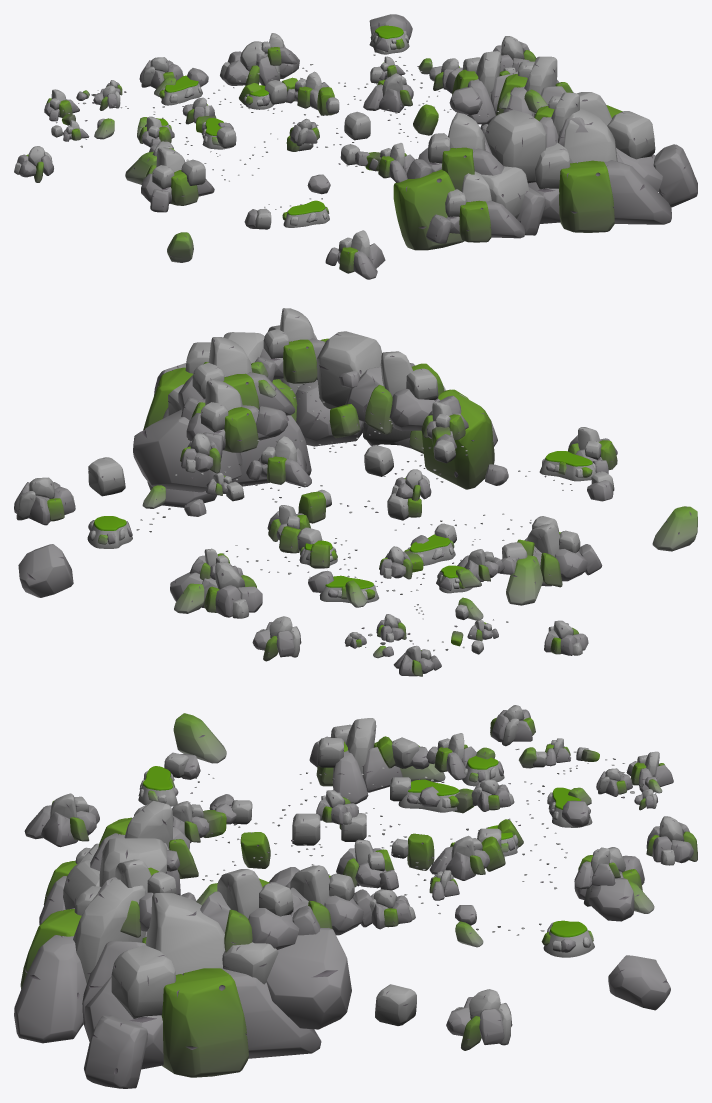
Rendered from RockMountain.glb.
The picture shows the model from 3 angles, top to bottom: view 1: azimuth 30°, elevation 25°; view 2: azimuth 150°, elevation 25°; view 3: azimuth 270°, elevation 25°; orthographic projection. The views are drawn at different scales.
Parts seen in each view (by area): view 1: LOD0 (×39); view 2: LOD0 (×40); view 3: LOD0 (×43).
Part boxes in pixels (x1=…): LOD0 (×39): x1=14, y1=14, x2=697, y2=279; LOD0 (×40): x1=14, y1=308, x2=697, y2=676; LOD0 (×43): x1=14, y1=705, x2=697, y2=1088.
Size of what is drawn, in the model's own units: 165 by 41.11 by 144.
Materials: 1 (1 with a texture image).
